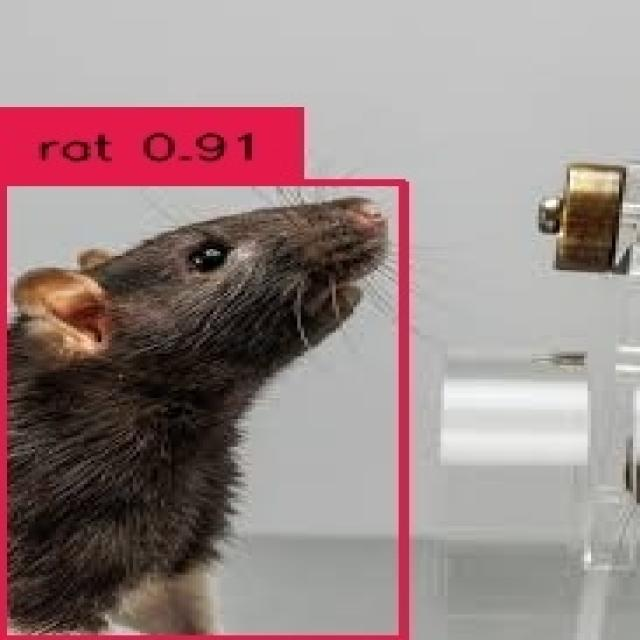rat: (0, 180, 399, 636)
